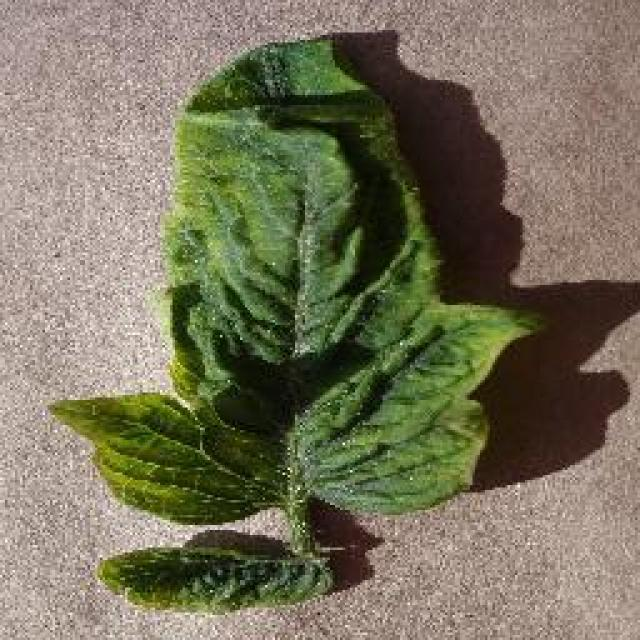Tomato yellow virus leaf: (47, 35, 535, 520), (90, 545, 342, 617)
